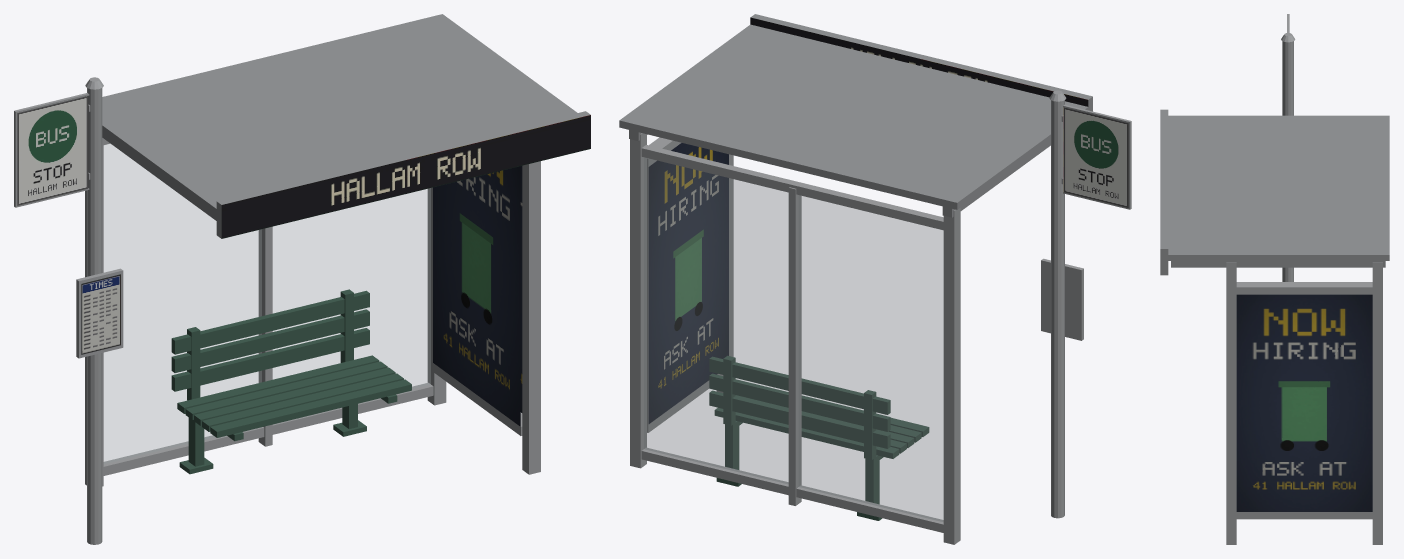
The model's file is bus_stop.glb.
The picture shows the model from 3 angles, left to right: view 1: azimuth 30°, elevation 25°; view 2: azimuth 150°, elevation 25°; view 3: azimuth 270°, elevation 25°; orthographic projection. The views are drawn at different scales.
Visible parts, largest first — view 1: Roof_Panel, Shelter_Glass, Signs, Steel_Grey, Bench_Steel, Poster; view 2: Shelter_Glass, Roof_Panel, Steel_Grey, Poster, Bench_Steel, Signs; view 3: Roof_Panel, Poster, Steel_Grey.
Part boxes in pixels (left/top/right/bottom): Roof_Panel: left=102, top=14, right=590, bottom=238; Shelter_Glass: left=104, top=144, right=430, bottom=463; Signs: left=17, top=96, right=590, bottom=354; Steel_Grey: left=14, top=77, right=540, bottom=544; Bench_Steel: left=171, top=289, right=411, bottom=474; Poster: left=433, top=166, right=522, bottom=426; Shelter_Glass: left=644, top=157, right=943, bottom=521; Roof_Panel: left=619, top=14, right=1092, bottom=217; Steel_Grey: left=630, top=90, right=1131, bottom=544; Poster: left=648, top=143, right=728, bottom=423; Bench_Steel: left=709, top=356, right=929, bottom=520; Signs: left=750, top=17, right=1128, bottom=207; Roof_Panel: left=1160, top=109, right=1389, bottom=275; Poster: left=1236, top=294, right=1372, bottom=511; Steel_Grey: left=1226, top=14, right=1382, bottom=544.
Size of the model in its own units: 3.34 by 2.99 by 1.74.
Materials: 6 (2 with a texture image).
